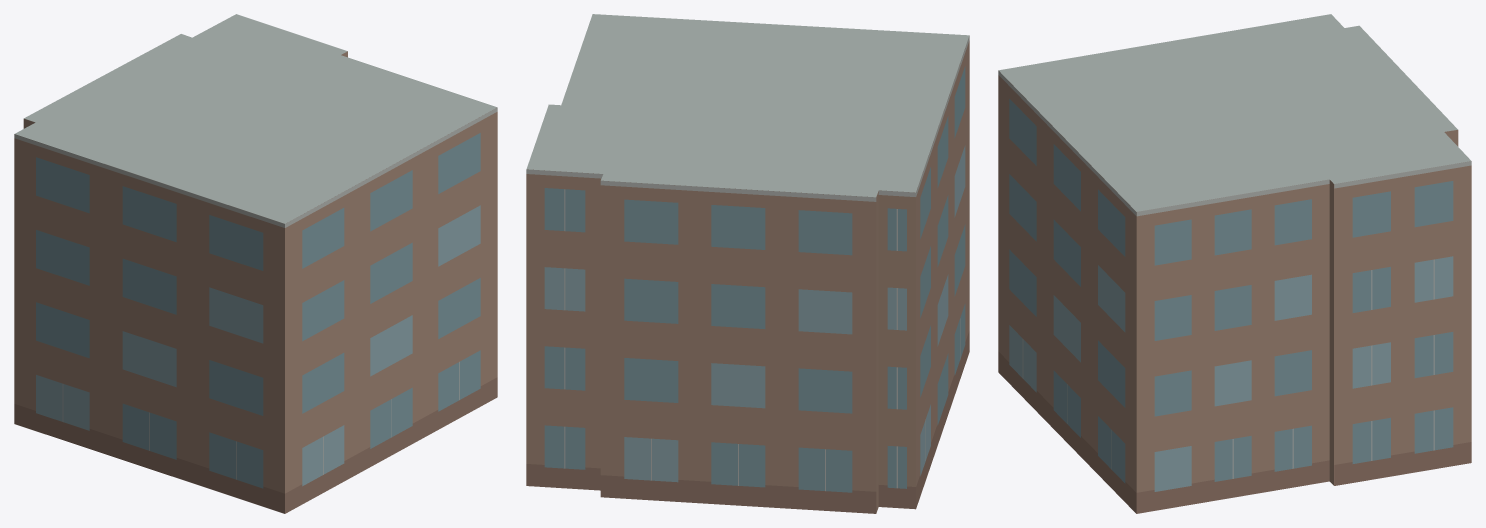
Rendered from survey-upis-33013151.glb.
3 renders of one model, left to right at view 1: azimuth 30°, elevation 25°; view 2: azimuth 150°, elevation 25°; view 3: azimuth 270°, elevation 25°, orthographic. The views are drawn at different scales.
Visible parts, largest first — view 1: survey-upis-33013151.tmp; view 2: survey-upis-33013151.tmp; view 3: survey-upis-33013151.tmp.
Boxes of the visible parts, <box> form: survey-upis-33013151.tmp: <box>14,14,497,513</box>; survey-upis-33013151.tmp: <box>526,14,969,513</box>; survey-upis-33013151.tmp: <box>998,14,1471,513</box>.
Bounding box in the file's own units: 23.43 × 16.65 × 23.66.
